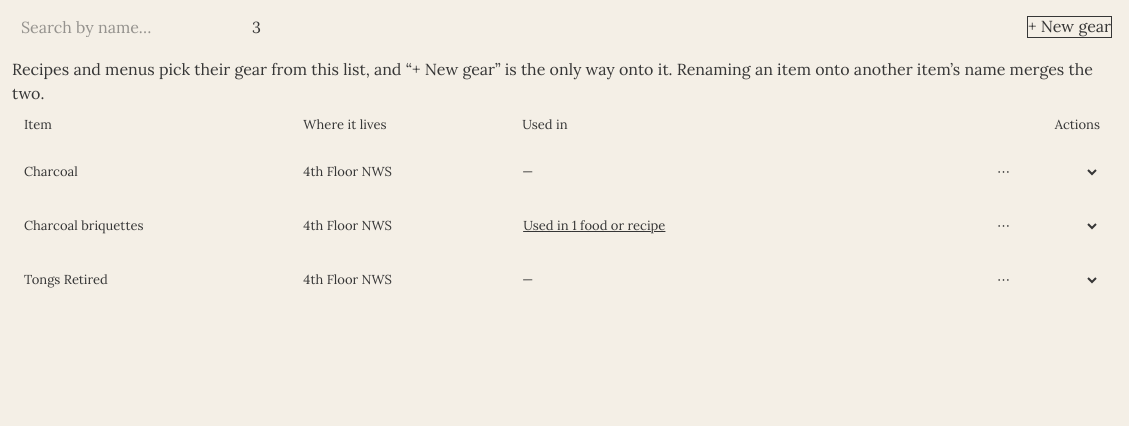
GearAdmin — merge › MergeInto_OffersEveryOtherItem_AndStaysGreyedUntilOneIsPicked
Select "Merge into…" in the dropdown named "More for Charcoal briquettes" at (1042, 226), box [983,208,1100,242]
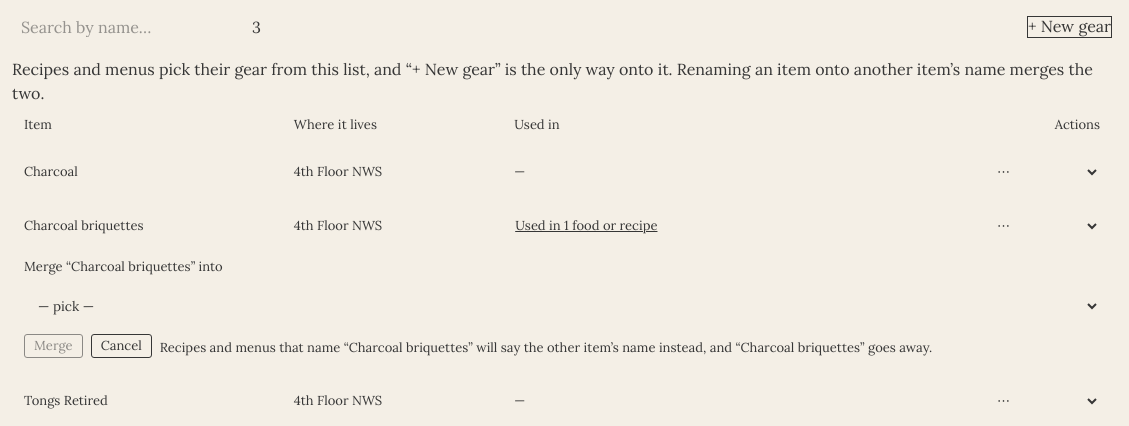
Check: the button "Merge" is disabled, box [24,334,83,358]
